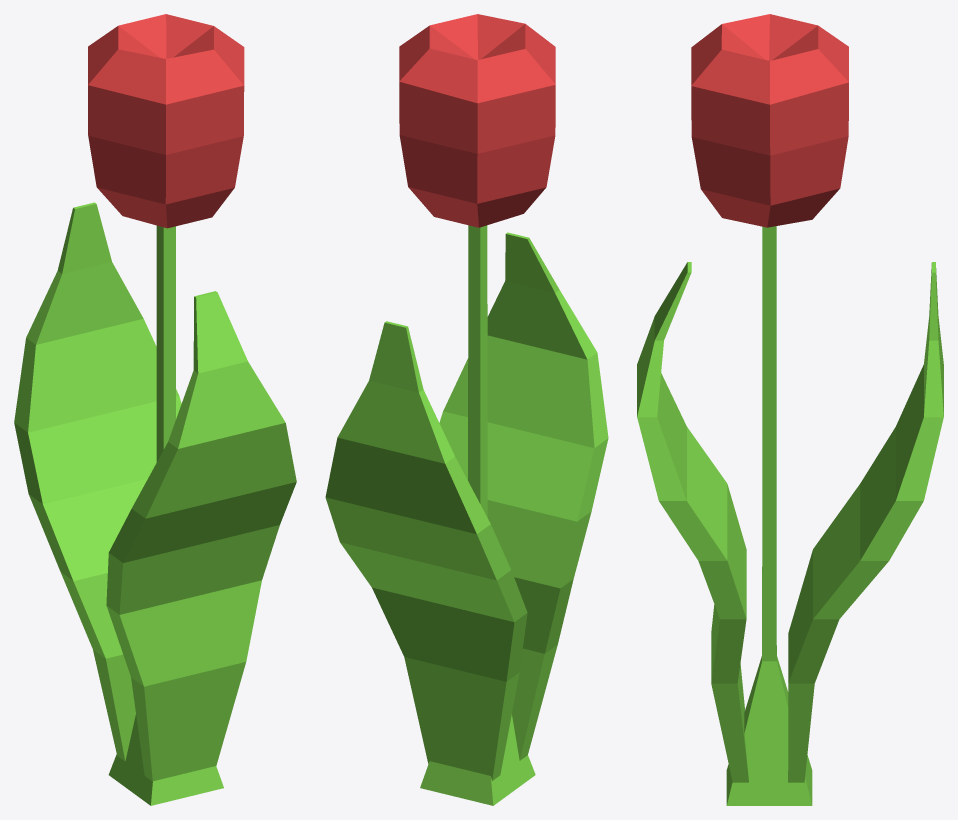
Rendered from Flower_TulipUV.fbx.
The picture shows the model from 3 angles, left to right: view 1: azimuth 30°, elevation 25°; view 2: azimuth 150°, elevation 25°; view 3: azimuth 270°, elevation 25°; orthographic projection.
Parts seen in each view (by area): view 1: Cube; view 2: Cube; view 3: Cube.
Part boxes in pixels (x1,y1,x2,y2): Cube: (14, 14, 296, 805); Cube: (325, 14, 608, 805); Cube: (637, 14, 943, 805).
Size of the model in its own units: 11.6 by 52.68 by 19.47.
